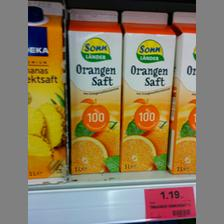Saft: (66, 7, 122, 176), (119, 10, 176, 170)
